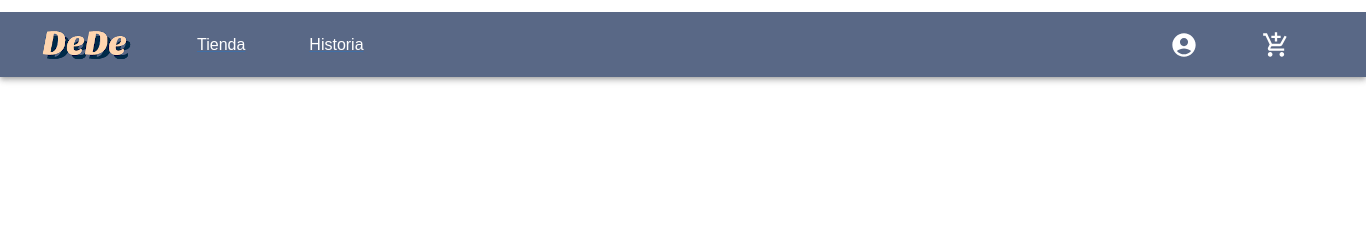
Scenario: check that the Shop page is rendered correctly
This screenshot has width=1366, height=239.
Click the button with class "userOptions": point(1184, 44) [1158, 18, 1210, 70]
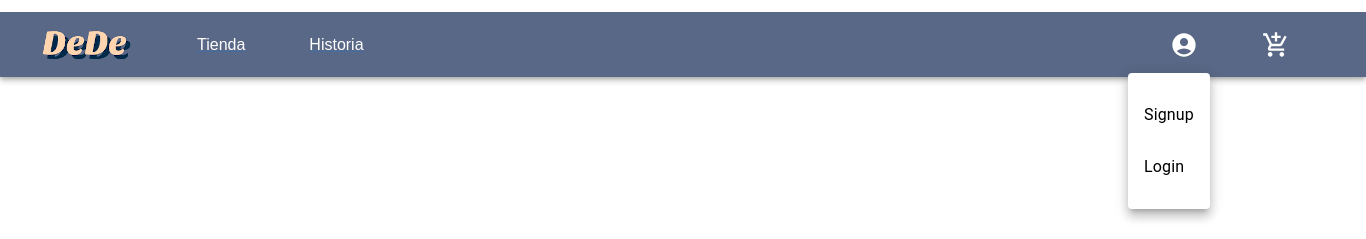
Check: the text "Login" is shown, box [1144, 155, 1184, 179]
